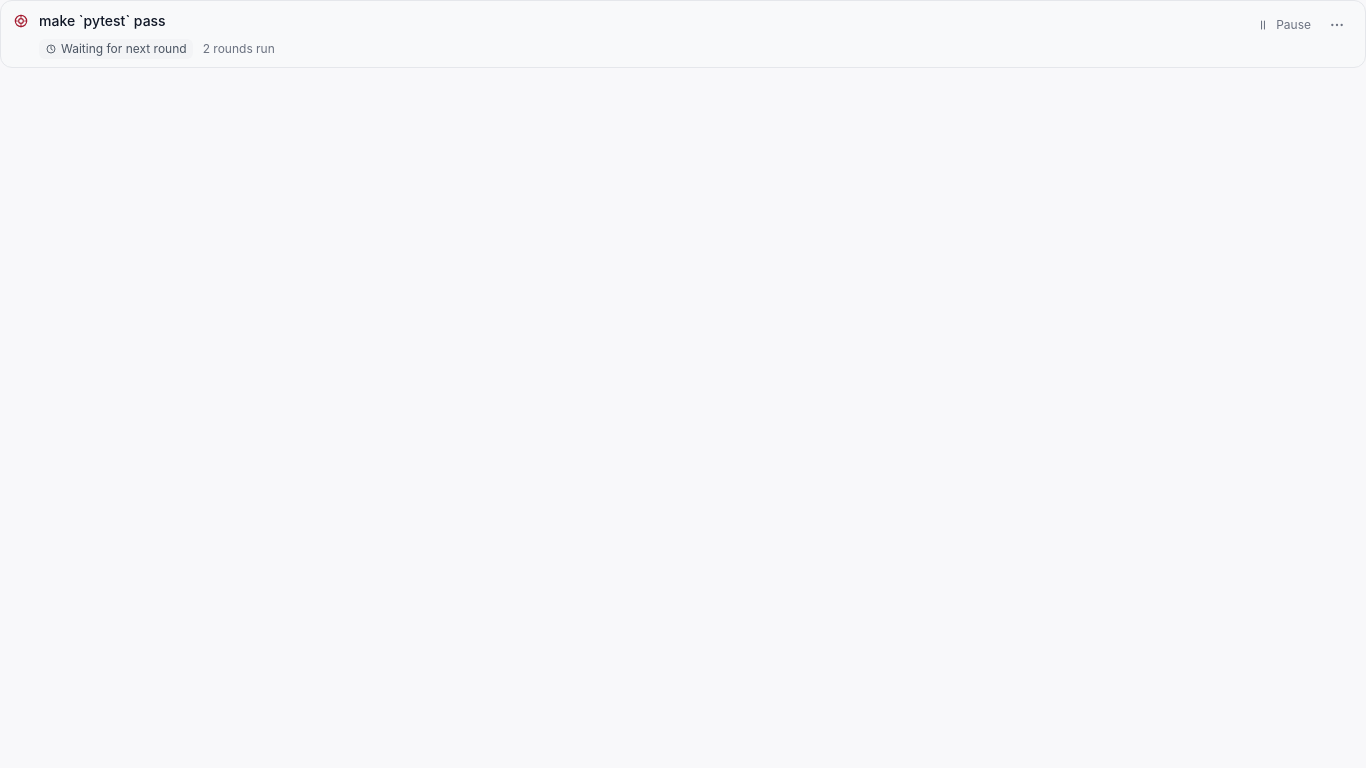
GoalBar controls › opens at the last menu item on ArrowUp and dismisses on an outside pointer
Press ArrowUp in the button named "Goal options", box [1321,9,1353,41]
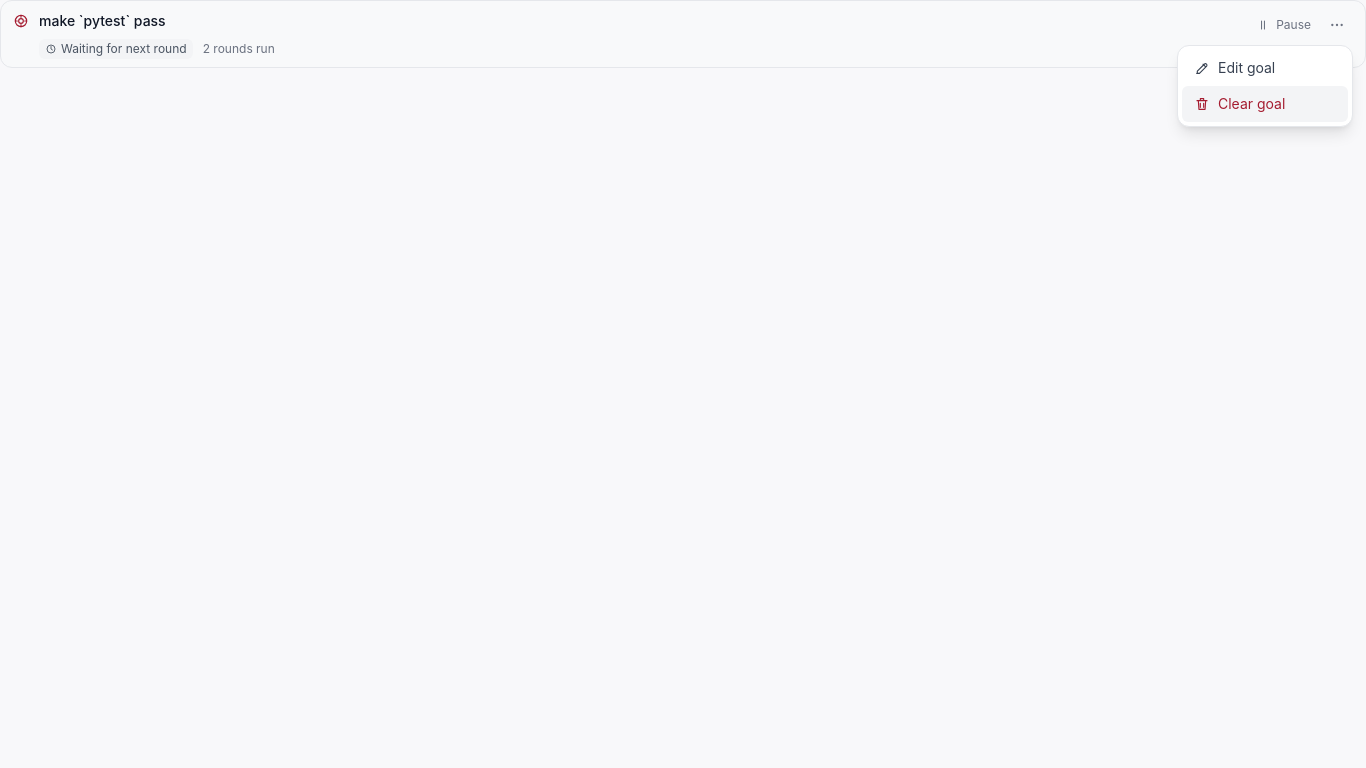
Press the mouse on the element that starts with "make `pytest` pass": (683, 384) [0,0,1365,767]
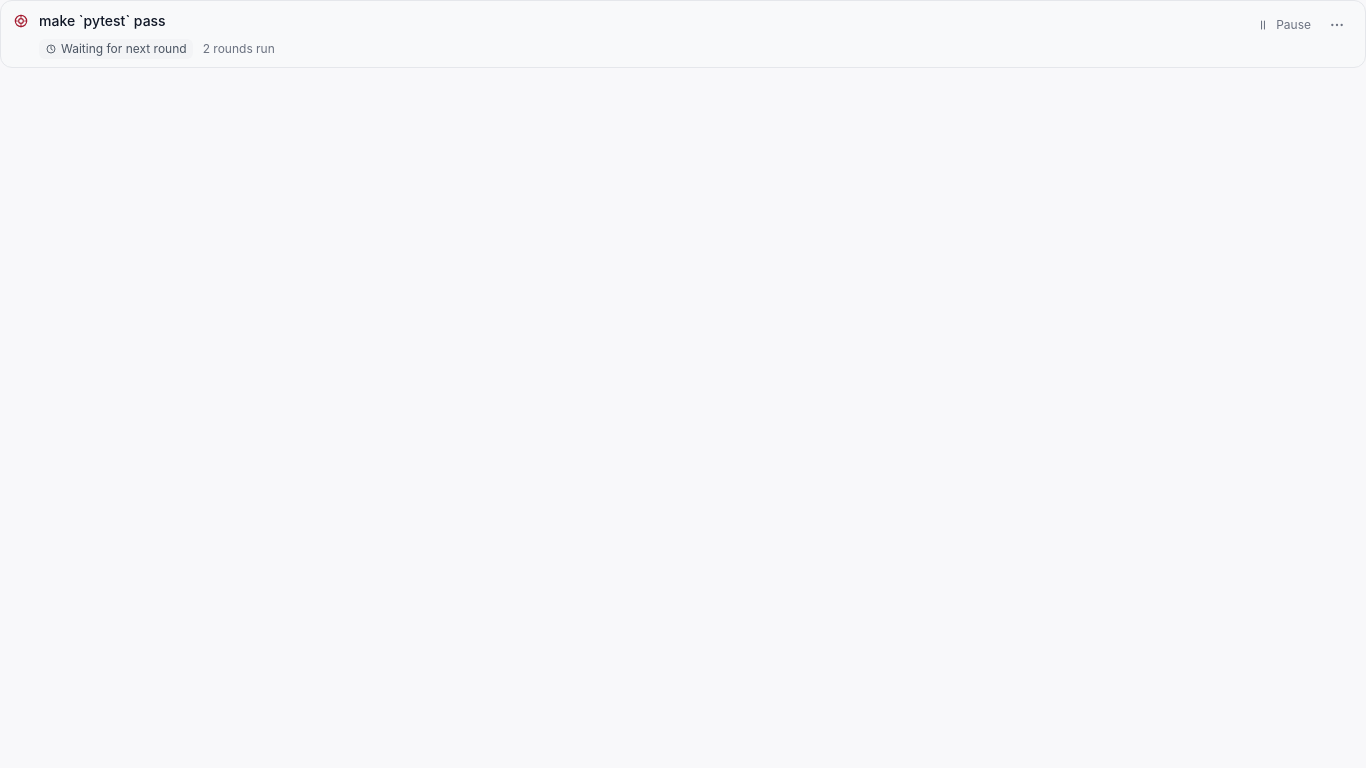
expect the menu is gone: met
